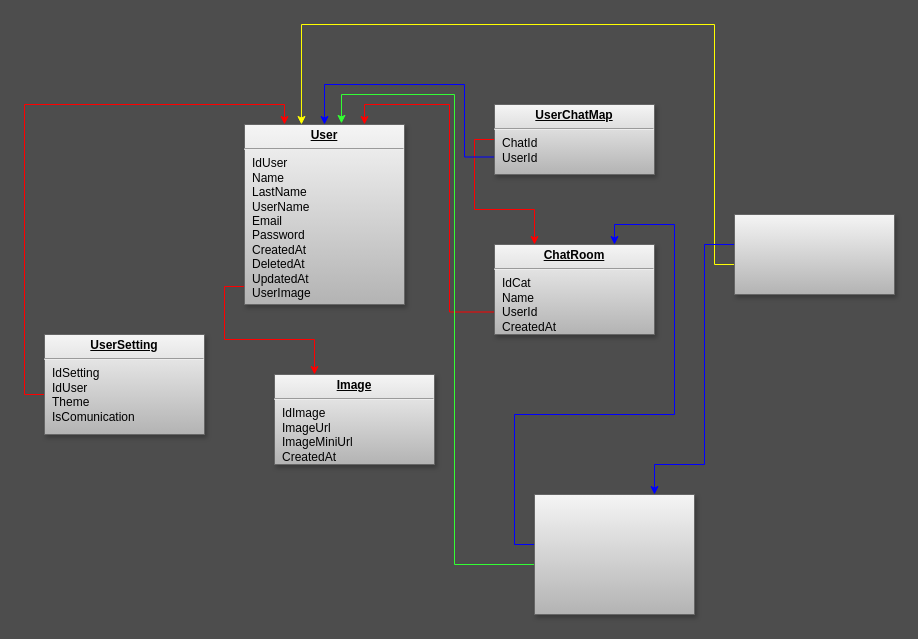
Some shapes in this 918 by 639 pixel diagram are drawn without their labels. The centre of each missing label's shape, as x and y in pixels:
"Message IdMessage ChatId UserId Content CreatedAt UpdatedAt" goes at [615,556].
"MessageStatus IdMessage UserId isRead" goes at [815,256].
